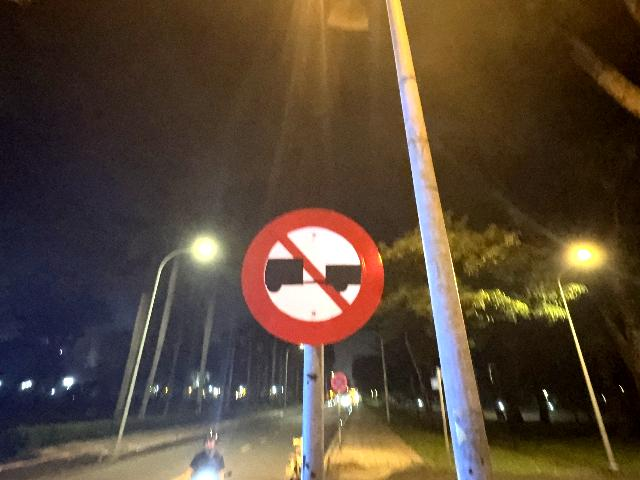cam-xe-somi-romooc: (242, 207, 385, 346)
